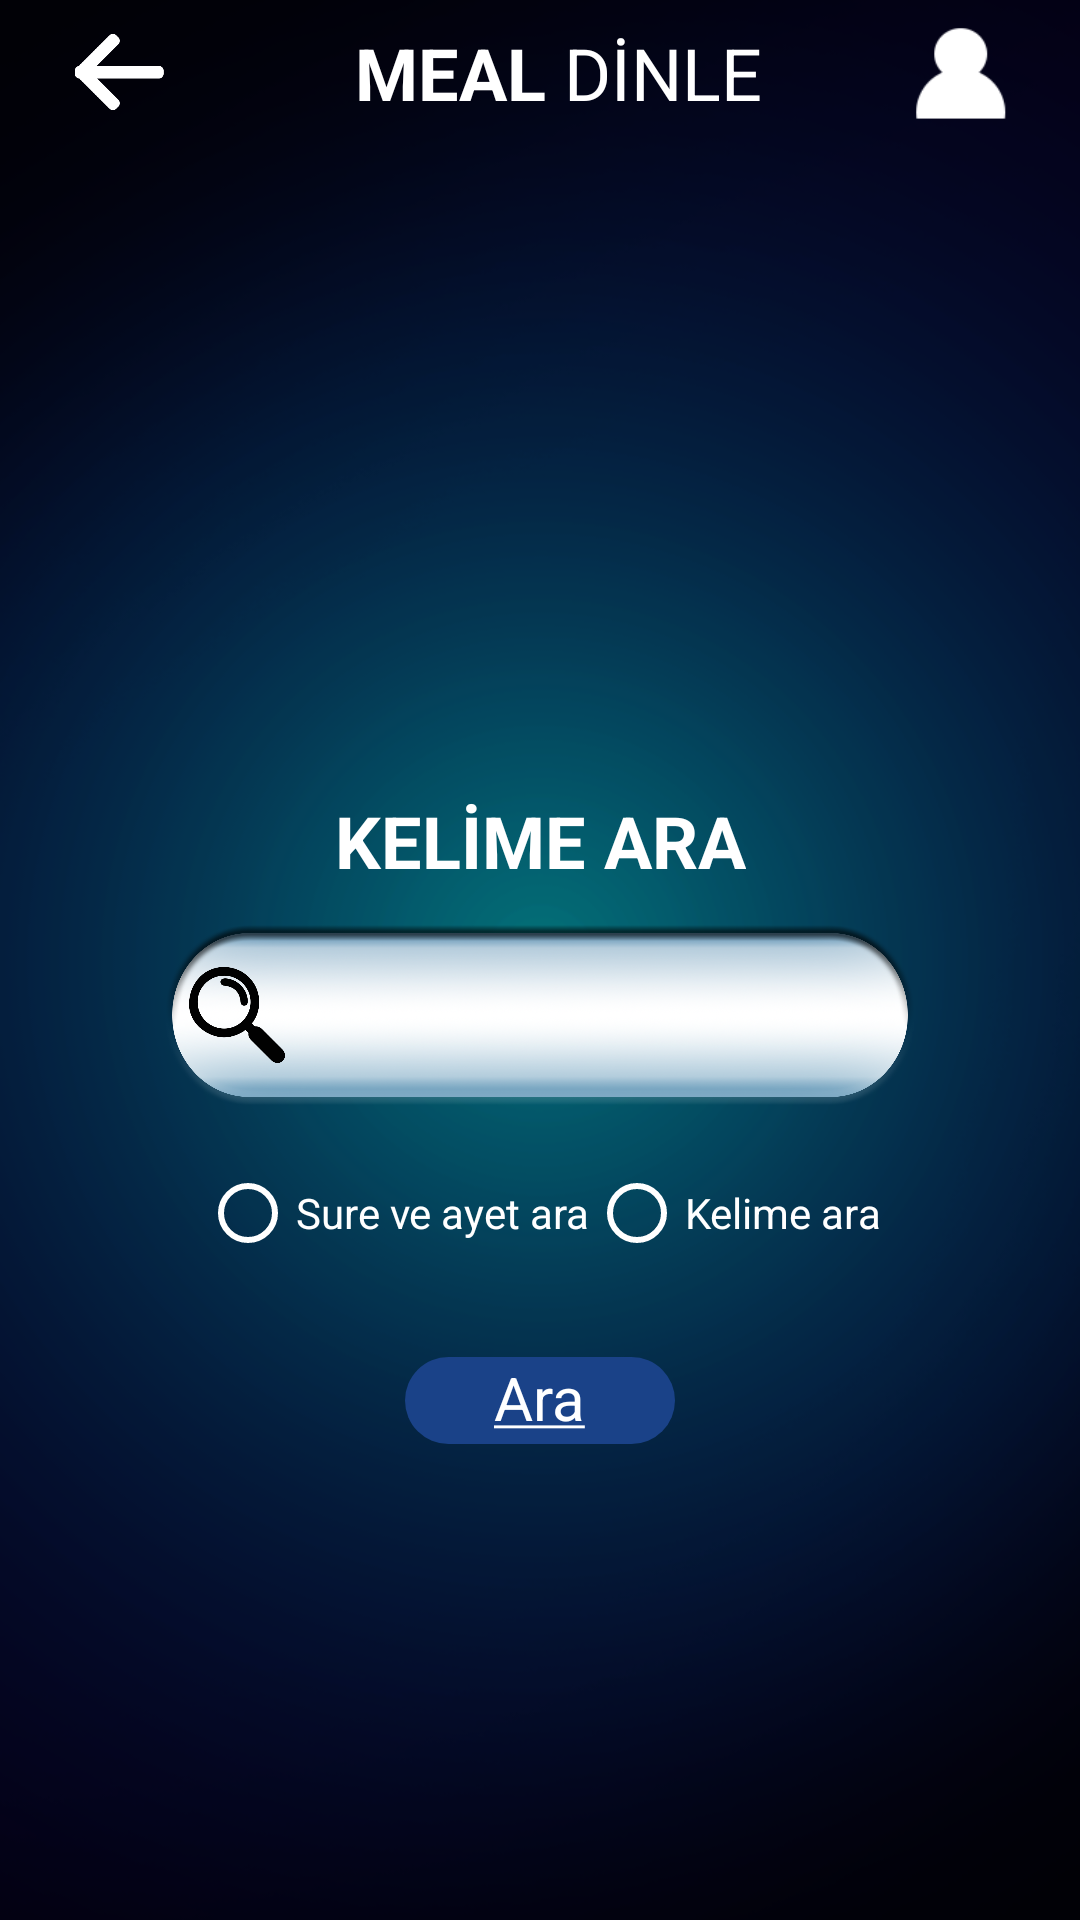

Named icons in this screenshot (1080 x 1920) and their centers, (x=x, y=y):
back: (x=119, y=72)
search: (x=237, y=1015)
user: (x=961, y=73)
